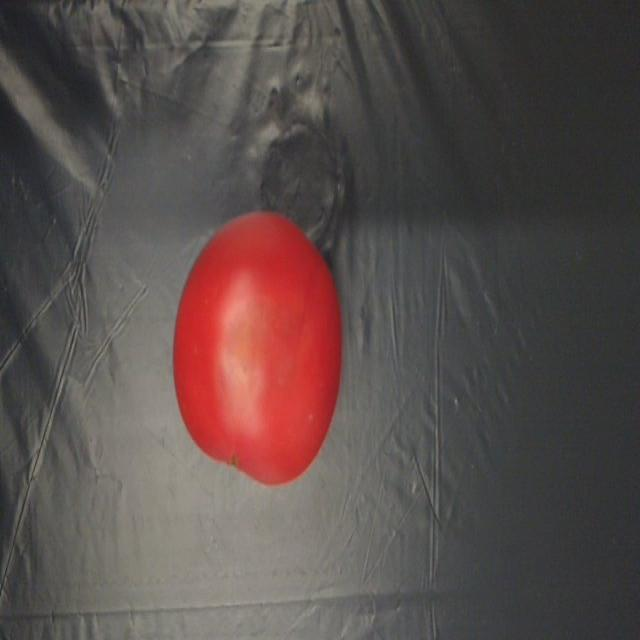kirmizi: (163, 183, 358, 499)
